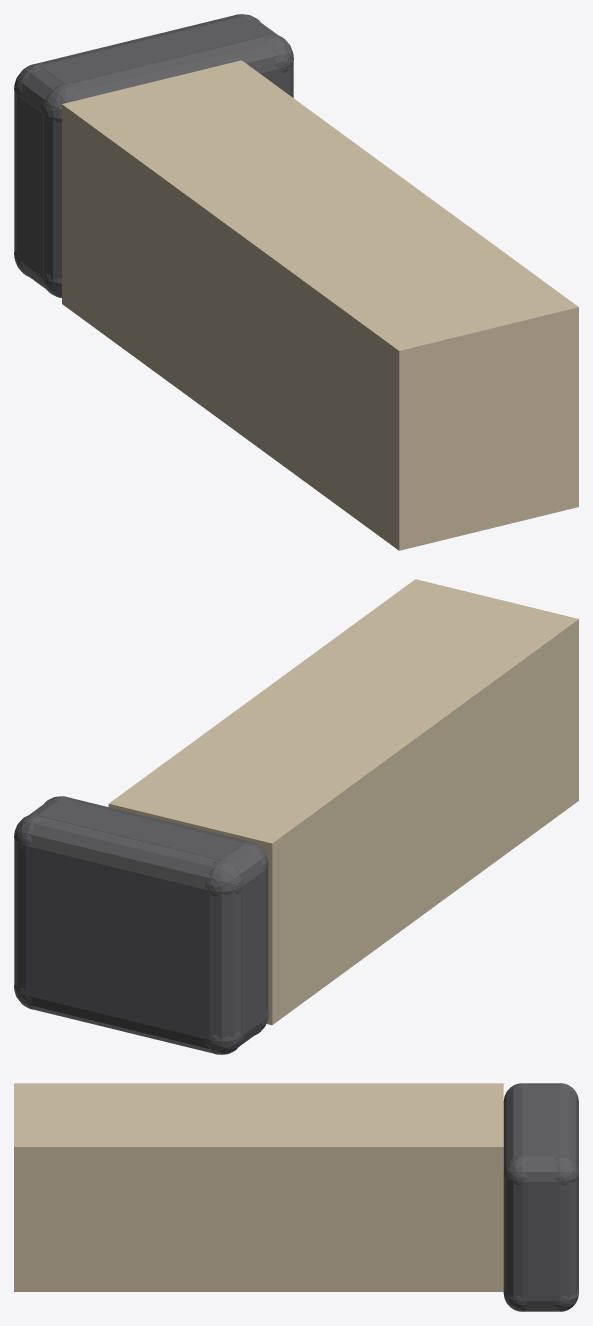
The model's file is leg_left.glb.
The picture shows the model from 3 angles, top to bottom: view 1: azimuth 30°, elevation 25°; view 2: azimuth 150°, elevation 25°; view 3: azimuth 270°, elevation 25°; orthographic projection. The views are drawn at different scales.
Parts seen in each view (by area): view 1: leg_left_visual, shoe_left_y_visual, shoe_left_edge3_visual, shoe_left_x_visual, shoe_left_edge5_visual, shoe_left_edge9_visual, shoe_left_edge2_visual, shoe_left_edge4_visual; view 2: leg_left_visual, shoe_left_z_visual, shoe_left_edge2_visual, shoe_left_edge4_visual, shoe_left_y_visual, shoe_left_x_visual, shoe_left_edge0_visual, shoe_left_edge6_visual, shoe_left_edge9_visual, shoe_left_edge3_visual, shoe_left_edge5_visual; view 3: leg_left_visual, shoe_left_x_visual, shoe_left_y_visual, shoe_left_edge6_visual, shoe_left_edge7_visual, shoe_left_edge2_visual, shoe_left_edge3_visual, shoe_left_edge11_visual, shoe_left_edge10_visual, shoe_left_z_visual.
Part boxes in pixels (x1,y1,x2,y2): leg_left_visual: (62, 60, 578, 550); shoe_left_y_visual: (40, 16, 267, 84); shoe_left_edge3_visual: (41, 34, 293, 123); shoe_left_x_visual: (17, 95, 43, 277); shoe_left_edge5_visual: (43, 84, 79, 297); shoe_left_edge9_visual: (14, 64, 79, 122); shoe_left_edge2_visual: (14, 14, 260, 98); shoe_left_edge4_visual: (14, 63, 43, 276); leg_left_visual: (108, 579, 578, 1025); shoe_left_z_visual: (25, 845, 209, 1039); shoe_left_edge2_visual: (14, 815, 243, 895); shoe_left_edge4_visual: (209, 859, 241, 1054); shoe_left_y_visual: (38, 798, 244, 860); shoe_left_x_visual: (241, 869, 265, 1035); shoe_left_edge0_visual: (14, 984, 243, 1054); shoe_left_edge6_visual: (14, 813, 41, 1009); shoe_left_edge9_visual: (205, 841, 268, 896); shoe_left_edge3_visual: (44, 796, 268, 873); shoe_left_edge5_visual: (241, 841, 268, 1035); leg_left_visual: (14, 1083, 503, 1291); shoe_left_x_visual: (522, 1181, 559, 1300); shoe_left_y_visual: (522, 1085, 559, 1156); shoe_left_edge6_visual: (555, 1155, 578, 1311); shoe_left_edge7_visual: (504, 1155, 527, 1311); shoe_left_edge2_visual: (555, 1083, 578, 1185); shoe_left_edge3_visual: (504, 1083, 527, 1185); shoe_left_edge11_visual: (503, 1156, 578, 1182); shoe_left_edge10_visual: (503, 1290, 578, 1311); shoe_left_z_visual: (503, 1102, 578, 1291).
Size of the model in its own units: 0.22 by 0.18 by 0.6.
